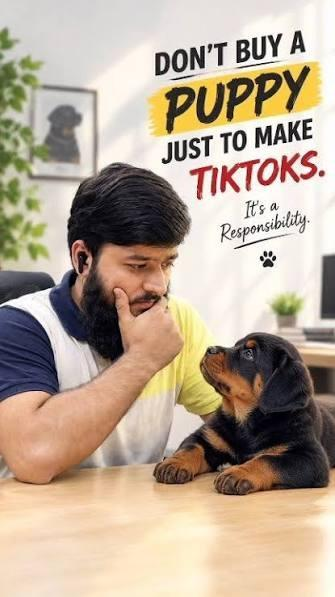non-dog: (1, 163, 225, 485)
puppy-dog: (152, 330, 335, 495)
